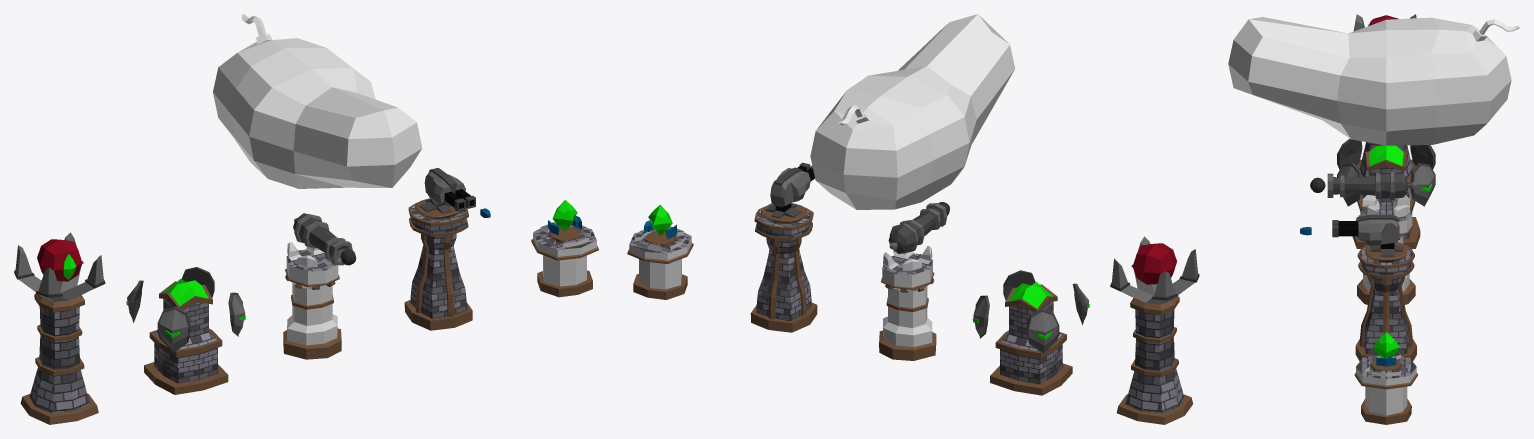
File: Battle Towers.fbx
3 renders of one model, left to right at view 1: azimuth 30°, elevation 25°; view 2: azimuth 150°, elevation 25°; view 3: azimuth 270°, elevation 25°, orthographic. The views are drawn at different scales.
Visible parts, largest first — view 1: Cannon Became Pig lol, Fire Tower, Turret Tower, Shield Tower, Cannon Tower, HealTower, Shields, Cannon, Turret, Fire Tower Eye; view 2: Cannon Became Pig lol, Fire Tower, Turret Tower, Cannon Tower, Shield Tower, HealTower, Shields, Cannon, Fire Tower Eye, Turret; view 3: Cannon Became Pig lol, Turret Tower, HealTower, Shields, Shield Tower, Cannon, Cannon Tower, Turret, Fire Tower, HealTowerJem, Turret Base.
Boxes of the visible parts, left/top/right/bottom form: Cannon Became Pig lol: left=213, top=14, right=422, bottom=188; Fire Tower: left=14, top=232, right=105, bottom=424; Turret Tower: left=404, top=198, right=472, bottom=330; Shield Tower: left=144, top=279, right=228, bottom=394; Cannon Tower: left=283, top=242, right=341, bottom=359; HealTower: left=531, top=222, right=598, bottom=297; Shields: left=126, top=267, right=245, bottom=352; Cannon: left=293, top=213, right=352, bottom=265; Turret: left=424, top=168, right=475, bottom=211; Fire Tower Eye: left=37, top=239, right=82, bottom=281; Cannon Became Pig lol: left=810, top=14, right=1015, bottom=209; Fire Tower: left=1110, top=236, right=1199, bottom=424; Turret Tower: left=750, top=203, right=817, bottom=332; Cannon Tower: left=879, top=246, right=936, bottom=360; Shield Tower: left=990, top=282, right=1072, bottom=395; HealTower: left=627, top=226, right=693, bottom=299; Shields: left=972, top=270, right=1089, bottom=354; Cannon: left=888, top=203, right=947, bottom=253; Fire Tower Eye: left=1132, top=243, right=1176, bottom=284; Turret: left=770, top=162, right=814, bottom=207; Cannon Became Pig lol: left=1228, top=17, right=1519, bottom=145; Turret Tower: left=1355, top=242, right=1416, bottom=361; HealTower: left=1354, top=354, right=1417, bottom=424; Shields: left=1337, top=138, right=1435, bottom=206; Shield Tower: left=1352, top=145, right=1420, bottom=248; Cannon: left=1327, top=171, right=1416, bottom=200; Cannon Tower: left=1357, top=195, right=1415, bottom=304; Turret: left=1332, top=214, right=1399, bottom=245; Fire Tower: left=1353, top=14, right=1416, bottom=183; HealTowerJem: left=1372, top=332, right=1399, bottom=357; Turret Base: left=1370, top=243, right=1403, bottom=256.
Size of the model in its own units: 897 by 438 by 418.
